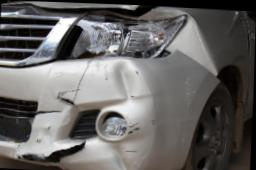Bonnet: (1, 0, 161, 18)
Bumper: (13, 47, 221, 170)
